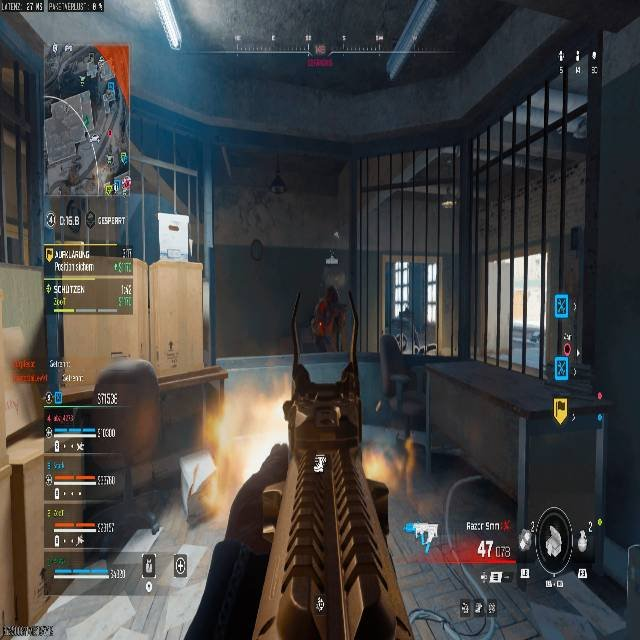head: (93, 356, 163, 453), (325, 286, 338, 301)
player: (59, 354, 226, 639), (309, 285, 345, 351)
